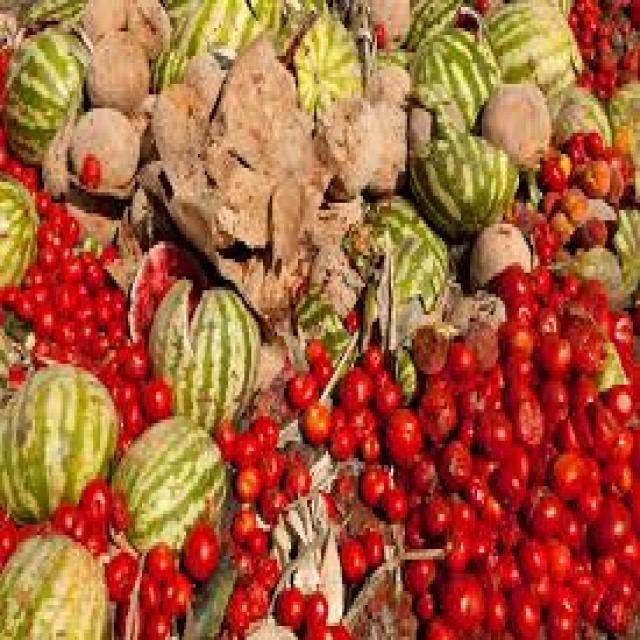food_waste: (15, 39, 606, 613), (355, 61, 629, 624)
